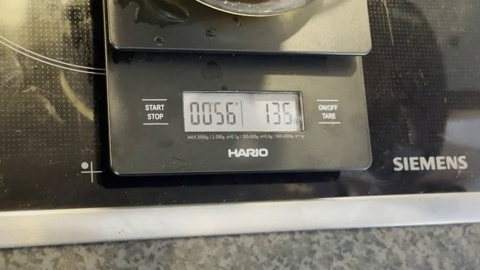display: (183, 90, 302, 130)
